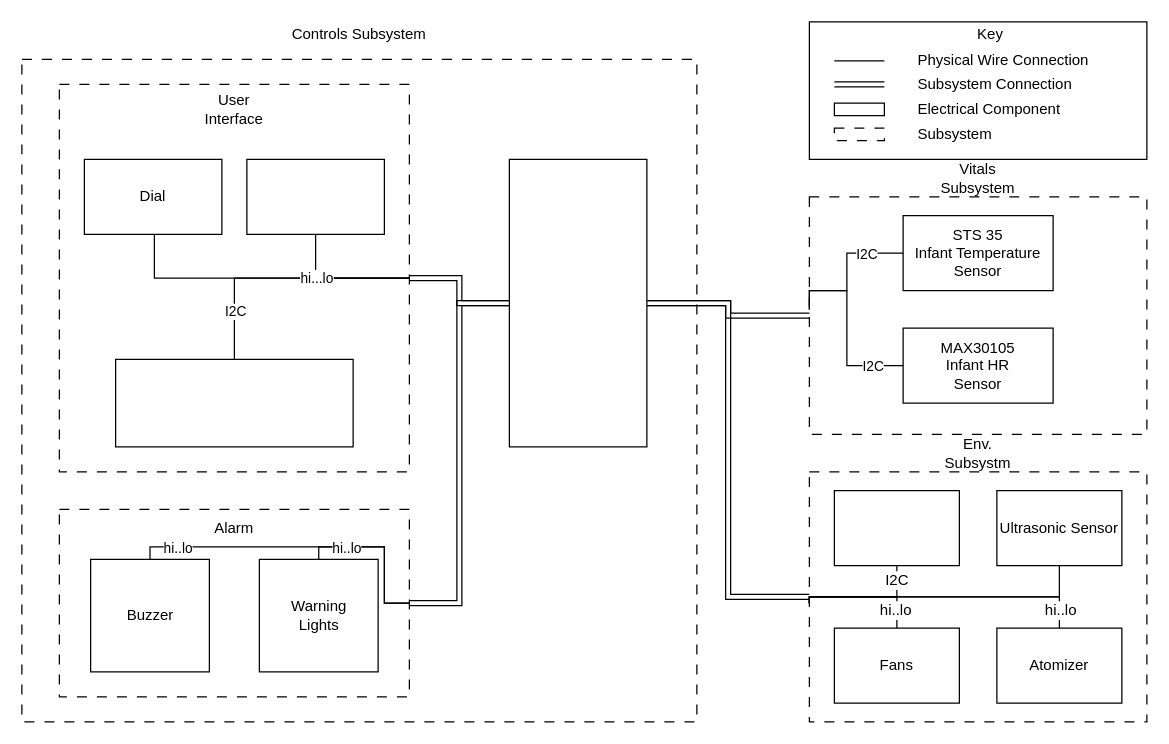
Image size: 1169x744. Some labels were removed from this diagram. Here are the shapes that lost their labels. From the top down, the centre of each, then its label:
(x=315, y=196): Button (x5)
(x=577, y=302): MCU
(x=233, y=402): LCD Screen
(x=896, y=527): SHT-31 Temp and Humidity Sensor
